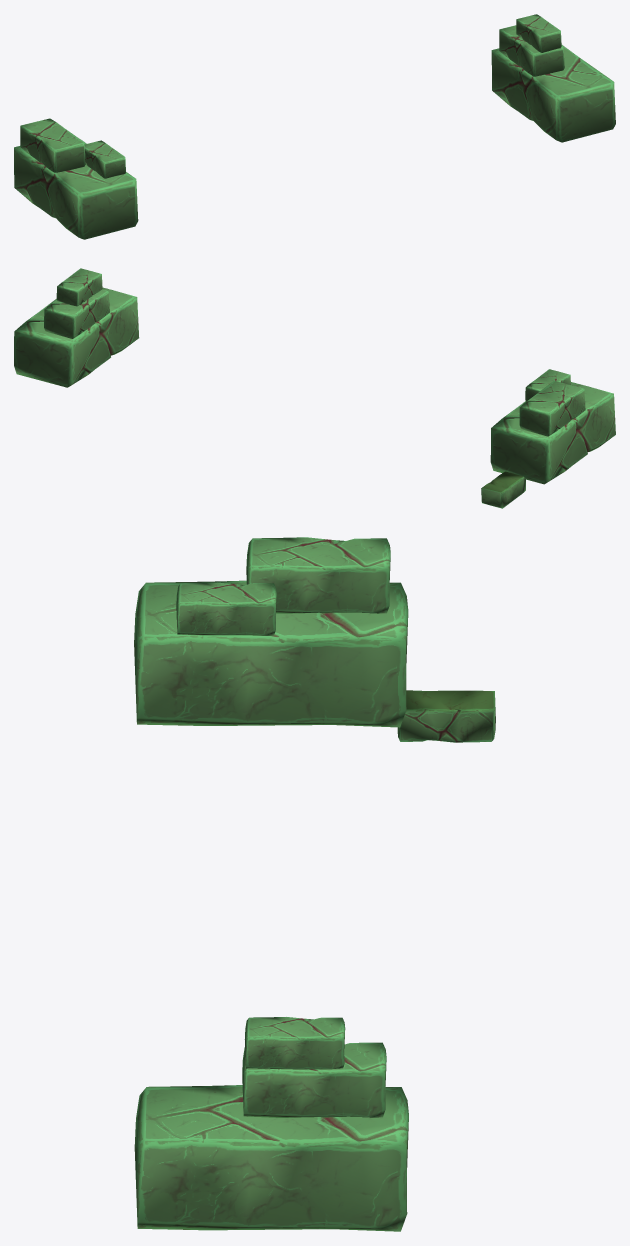
File: walls_east_west2.obj
3 views of the same model, one above another, from view 1: azimuth 30°, elevation 25°; view 2: azimuth 150°, elevation 25°; view 3: azimuth 270°, elevation 25° (orthographic). The views are drawn at different scales.
Parts seen in each view (by area): view 1: brick3_low.069, brick3_low.095, brick3_low.096, brick3_low.068, brick3_low.070, brick3_low.094; view 2: brick3_low.069, brick3_low.095, brick3_low.096, brick3_low.068, brick3_low.070, brick3_low.067, brick3_low.094; view 3: brick3_low.069, brick3_low.095, brick3_low.096, brick3_low.068, brick3_low.094, brick3_low.070, brick3_low.067.
Part boxes in pixels (box(x1,y1,x2,y2)): brick3_low.069: box(491, 45, 615, 142); brick3_low.095: box(14, 140, 138, 239); brick3_low.096: box(20, 118, 85, 172); brick3_low.068: box(499, 25, 564, 76); brick3_low.070: box(516, 14, 561, 52); brick3_low.094: box(84, 140, 125, 178); brick3_low.069: box(14, 287, 139, 387); brick3_low.095: box(490, 382, 615, 484); brick3_low.096: box(519, 380, 585, 436); brick3_low.068: box(44, 289, 109, 338); brick3_low.070: box(56, 268, 102, 306); brick3_low.067: box(481, 471, 525, 508); brick3_low.094: box(525, 369, 570, 401); brick3_low.069: box(134, 1085, 408, 1231); brick3_low.095: box(134, 580, 408, 727); brick3_low.096: box(246, 537, 390, 613); brick3_low.068: box(242, 1042, 386, 1117); brick3_low.094: box(176, 582, 276, 635); brick3_low.070: box(244, 1017, 345, 1069); brick3_low.067: box(397, 690, 495, 742).
Size of the model in its own units: 2330 by 368 by 680.
